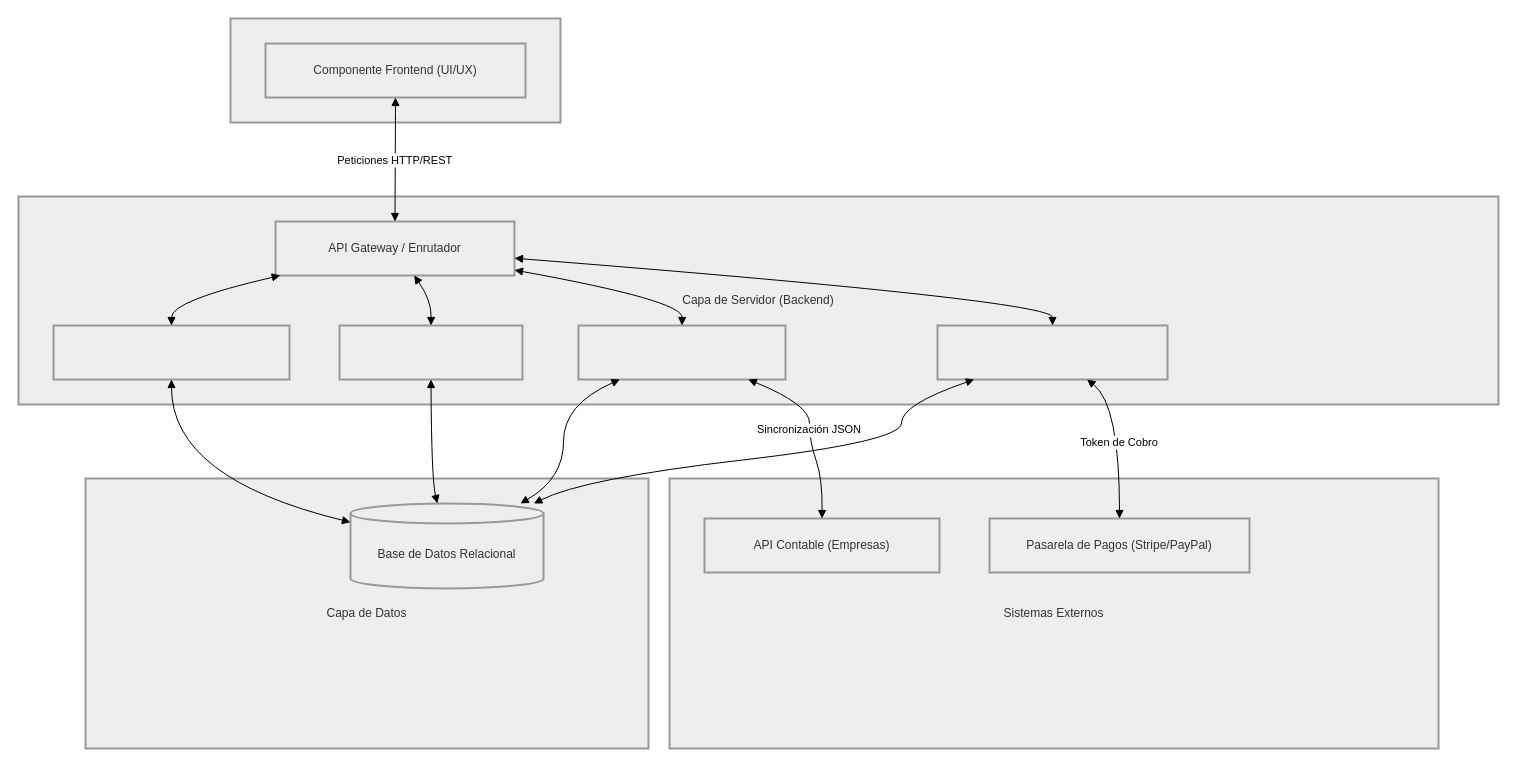
The diagram is 1516 pixels wide and 766 high, and some of its shapes have lost their labels. Each missing label, with the centre of its shape:
"Gestor de Inventario" goes at (x=681, y=352).
"Gestor de Suscripciones" goes at (x=1052, y=352).
"Motor de Pedidos" goes at (x=430, y=352).
"Módulo de Autenticación" goes at (x=171, y=352).
